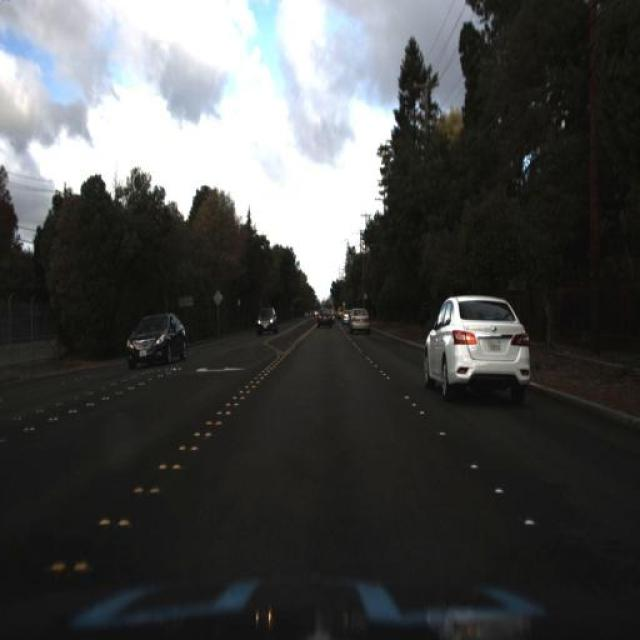car: (424, 290, 528, 415), (124, 308, 188, 364), (344, 304, 370, 338), (253, 306, 281, 332), (314, 308, 334, 332)
